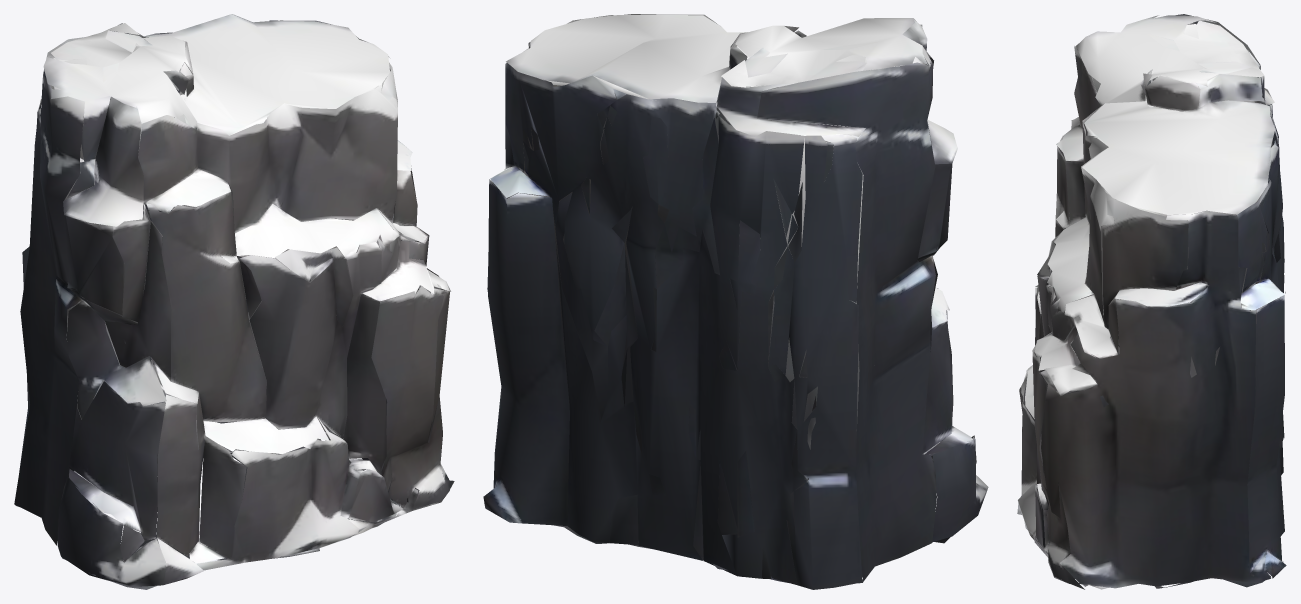
The model's file is cliff_gen_b.glb.
3 views of the same model, side by side, from view 1: azimuth 30°, elevation 25°; view 2: azimuth 150°, elevation 25°; view 3: azimuth 270°, elevation 25° (orthographic). The views are drawn at different scales.
Parts seen in each view (by area): view 1: cliff_gen.001; view 2: cliff_gen.001; view 3: cliff_gen.001.
Part boxes in pixels (x1,y1,x2,y2): cliff_gen.001: [14, 14, 454, 589]; cliff_gen.001: [483, 14, 988, 589]; cliff_gen.001: [1017, 14, 1286, 589].
Bounding box in the file's own units: 10.28 × 12.14 × 6.98.
1 material, 1 textured.
